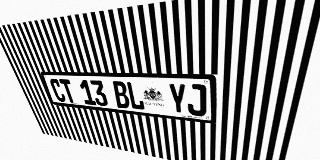1: (78, 80, 96, 105)
3: (90, 80, 109, 107)
B: (111, 81, 131, 109)
C: (49, 79, 67, 102)
J: (186, 84, 206, 117)
L: (126, 81, 145, 110)
T: (59, 79, 77, 103)
Y: (168, 83, 187, 115)
